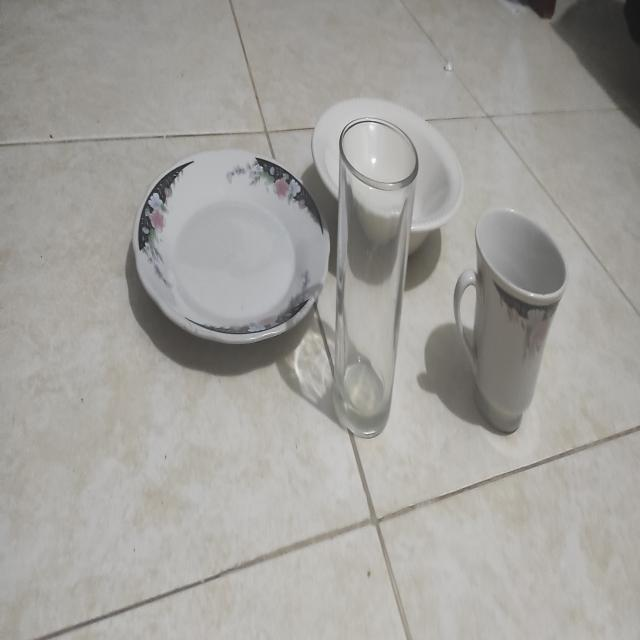ceramic plate: (121, 141, 335, 373), (308, 83, 468, 244)
